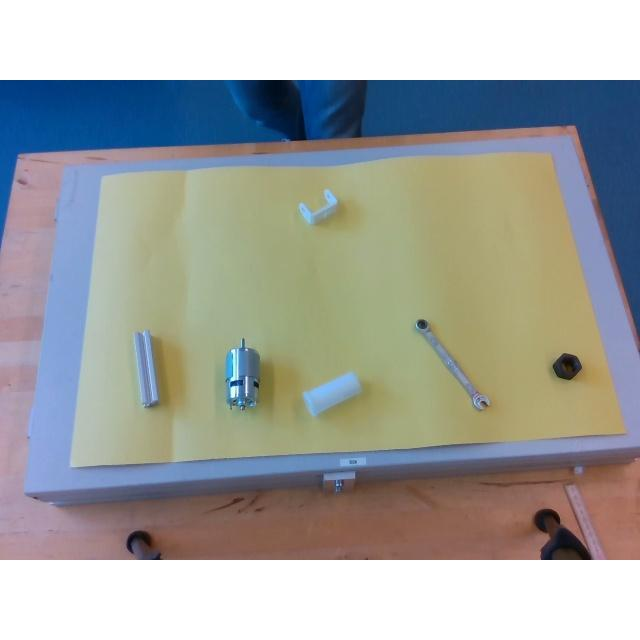F20_20_G: (134, 330, 158, 406)
M20: (550, 351, 582, 381)
Motor2: (226, 339, 260, 408)
Spacer: (303, 371, 362, 414)
Wrench: (414, 319, 490, 409)
